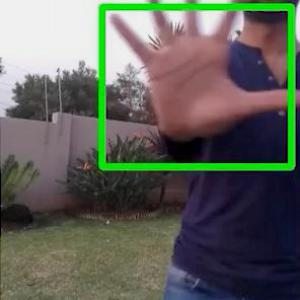follow_hand: (99, 0, 299, 147)
